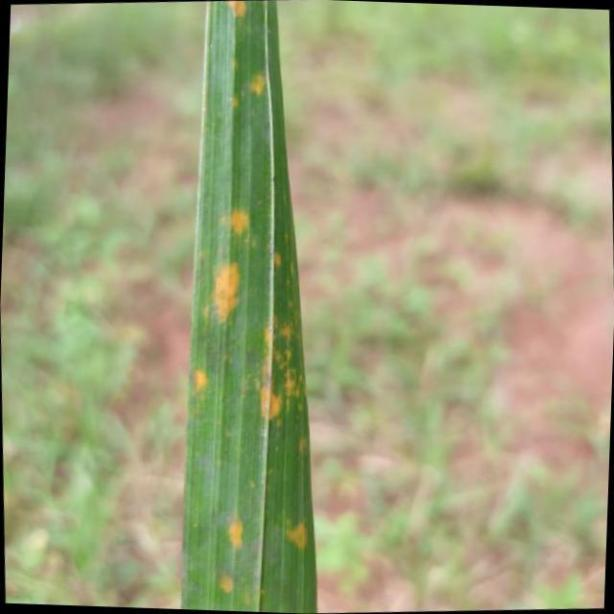Kalium: (181, 0, 318, 614)
